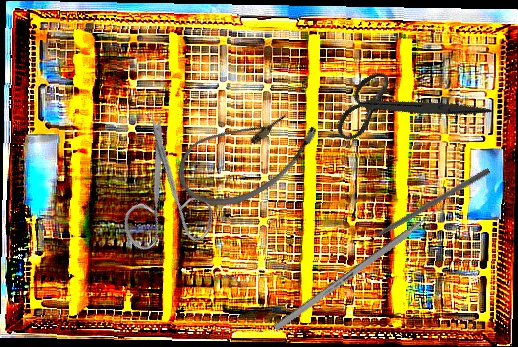Cannula: (166, 83, 329, 227)
Iris Scissors: (74, 105, 247, 277), (321, 30, 493, 187)
Pusher: (272, 194, 459, 332), (354, 166, 491, 250)
